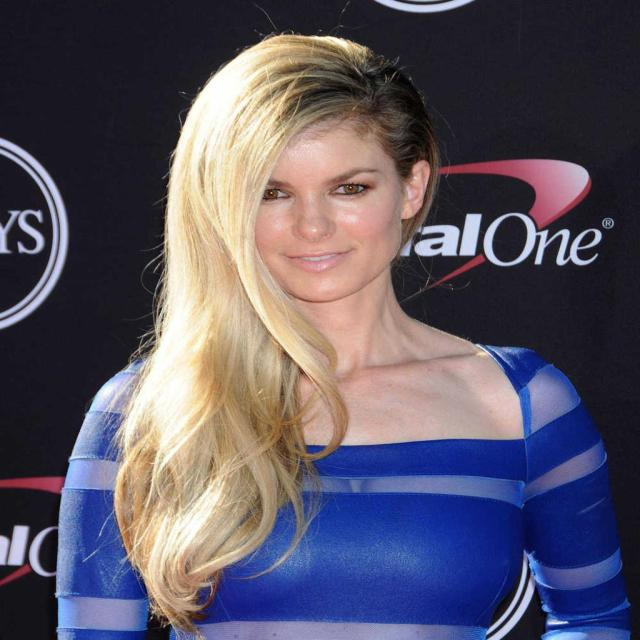Face: (222, 93, 422, 282)
